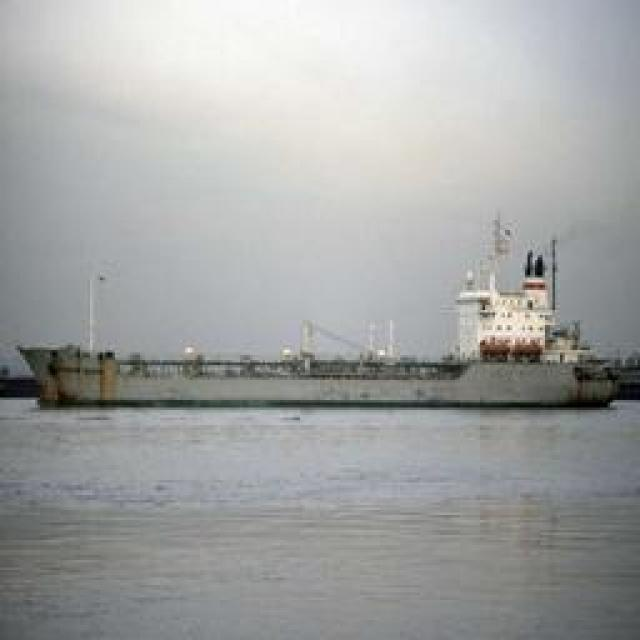ship2: (16, 208, 639, 410)
